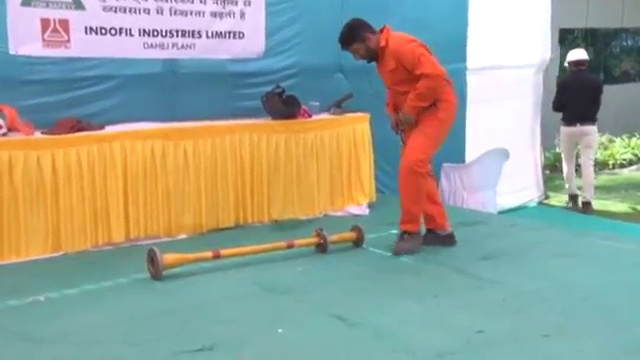helmet: (563, 47, 590, 66)
helmet_off: (340, 16, 381, 62)
helmet_on: (561, 47, 592, 77)
person: (338, 15, 459, 256), (550, 47, 604, 212)
